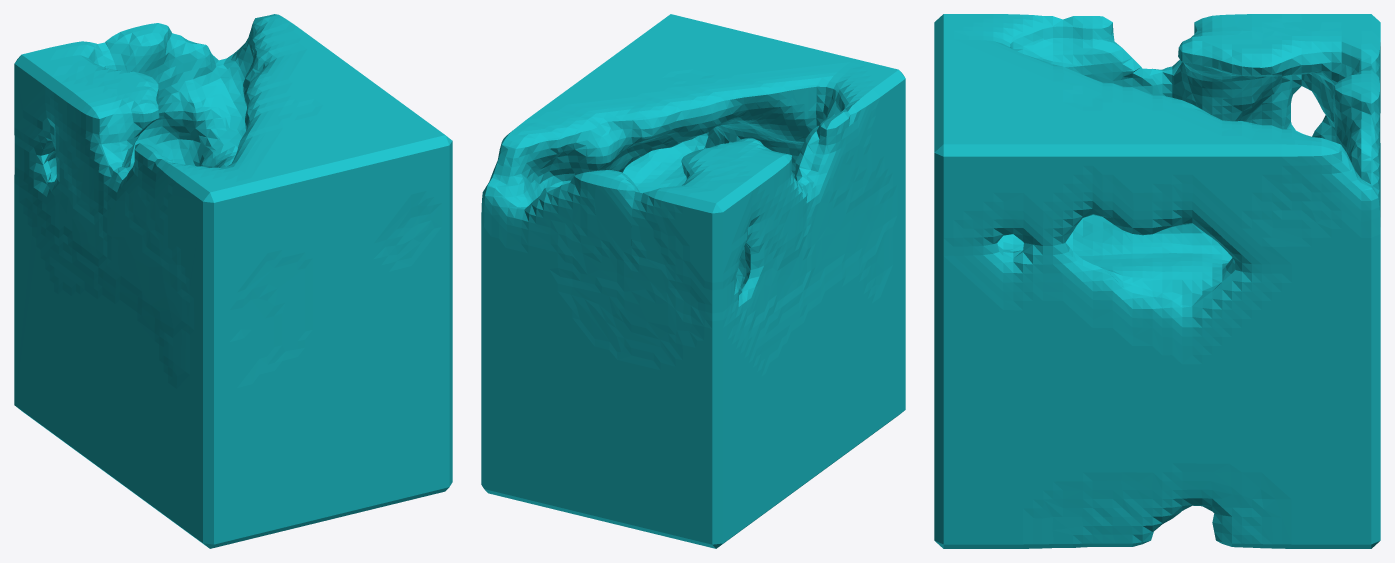
3 renders of one model, left to right at view 1: azimuth 30°, elevation 25°; view 2: azimuth 150°, elevation 25°; view 3: azimuth 270°, elevation 25°, orthographic. The views are drawn at different scales.
Parts seen in each view (by area): view 1: Liquid_Domain; view 2: Liquid_Domain; view 3: Liquid_Domain.
Boxes of the visible parts, x1,y1,x2,y2 form: Liquid_Domain: (14, 14, 452, 548); Liquid_Domain: (481, 14, 905, 548); Liquid_Domain: (934, 14, 1380, 548).
Size of the model in its own units: 79.09 by 108 by 108.
